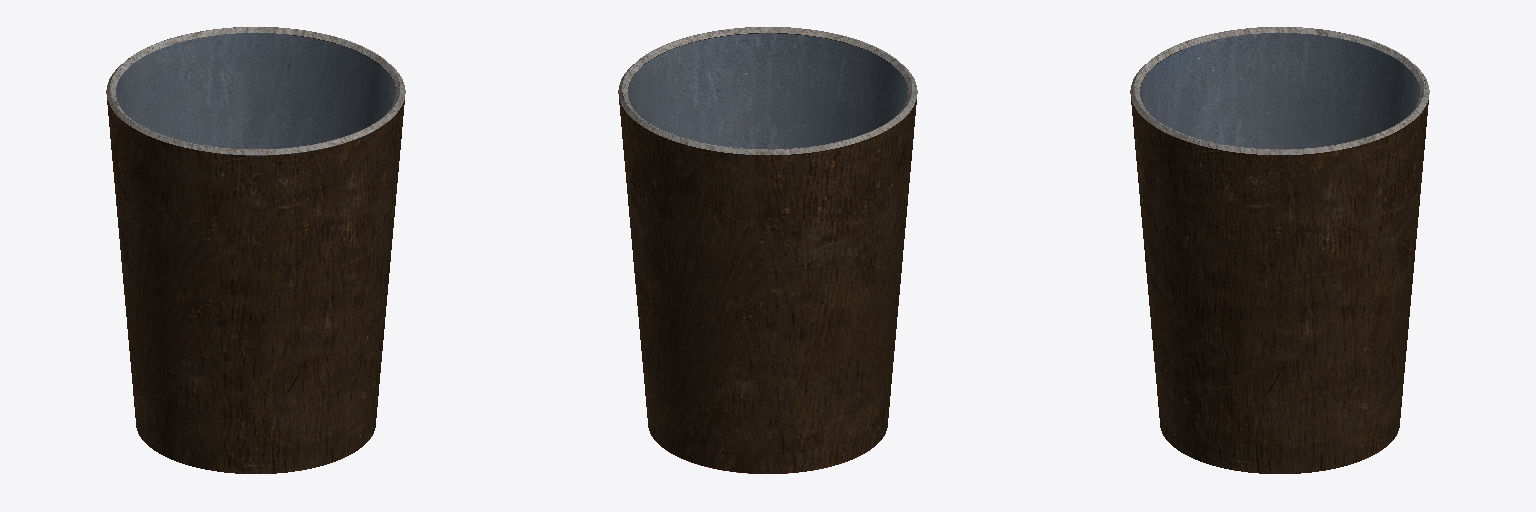
The picture shows the model from 3 angles: view 1: azimuth 30°, elevation 25°; view 2: azimuth 150°, elevation 25°; view 3: azimuth 270°, elevation 25°; orthographic projection.
Parts seen in each view (by area): view 1: Cylinder_Cylinder.001; view 2: Cylinder_Cylinder.001; view 3: Cylinder_Cylinder.001.
Part boxes in pixels (bbox=[...]): Cylinder_Cylinder.001: bbox=[106, 27, 405, 473]; Cylinder_Cylinder.001: bbox=[618, 27, 917, 473]; Cylinder_Cylinder.001: bbox=[1130, 27, 1429, 473].
Size of the model in its own units: 1.47 by 1.82 by 1.47.
1 materials, 1 textured.